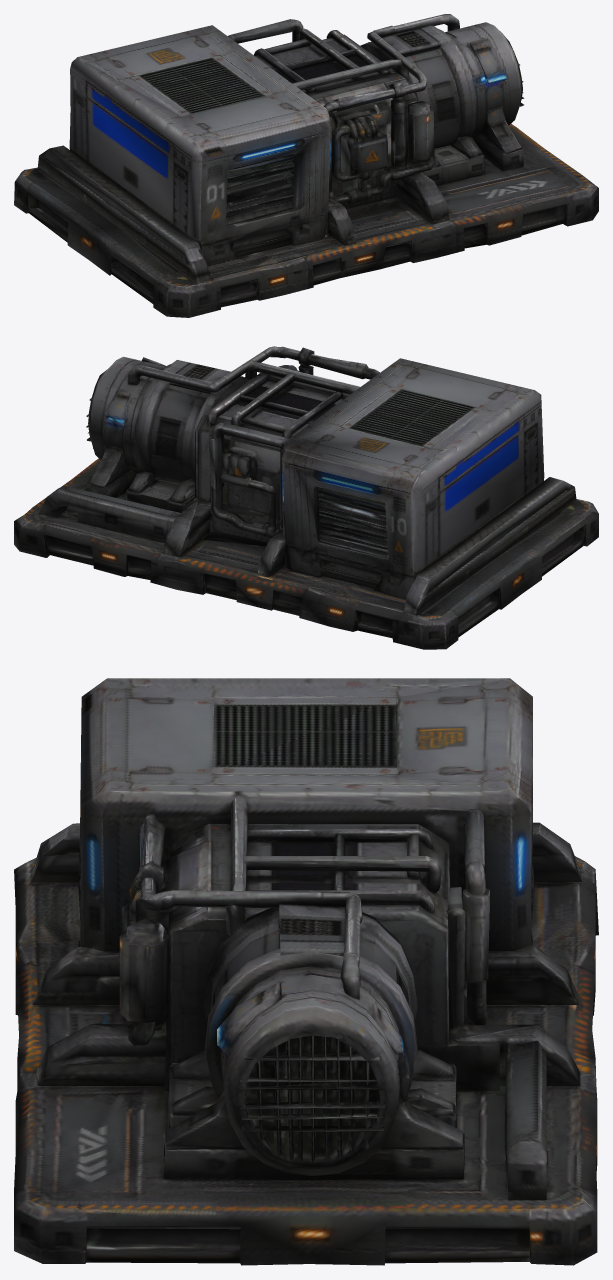
Rendered from machinery_1.glb.
3 renders of one model, top to bottom at view 1: azimuth 30°, elevation 25°; view 2: azimuth 150°, elevation 25°; view 3: azimuth 270°, elevation 25°, orthographic. The views are drawn at different scales.
Visible parts, largest first — view 1: mesh_node; view 2: mesh_node; view 3: mesh_node.
Part boxes in pixels (<box>): mesh_node: <box>14,14,598,317</box>; mesh_node: <box>14,346,598,649</box>; mesh_node: <box>14,678,598,1265</box>.
Size of the model in its own units: 1.8 by 0.6 by 1.21.
Materials: 1 (1 with a texture image).
